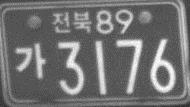1: (92, 39, 109, 95)
3: (56, 40, 85, 96)
6: (149, 37, 177, 93)
7: (114, 38, 143, 95)
8: (96, 9, 113, 35)
9: (114, 8, 134, 33)
가: (14, 42, 46, 79)
전북_O: (51, 10, 92, 34)
